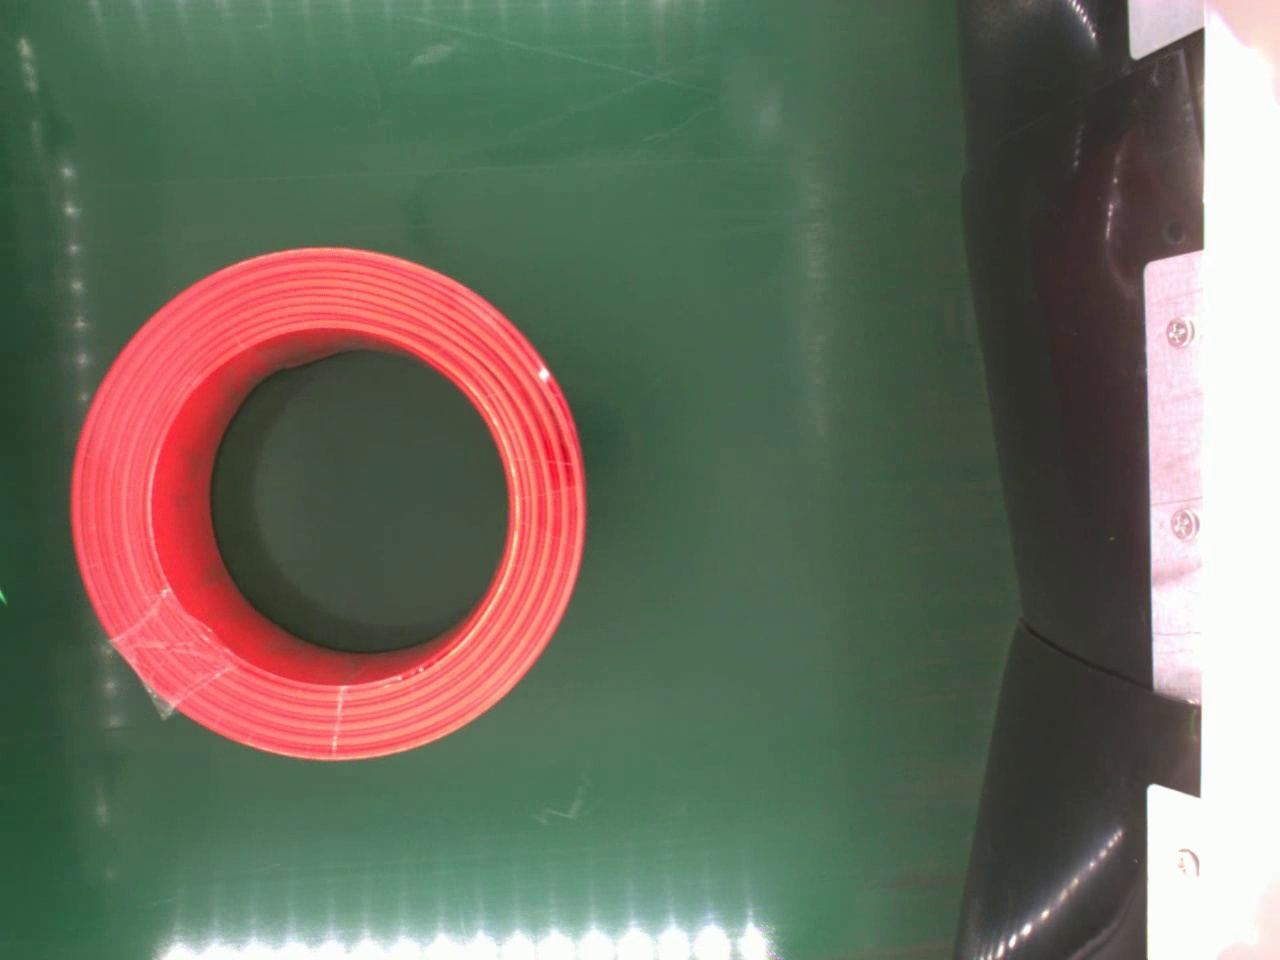red: (62, 243, 590, 762)
